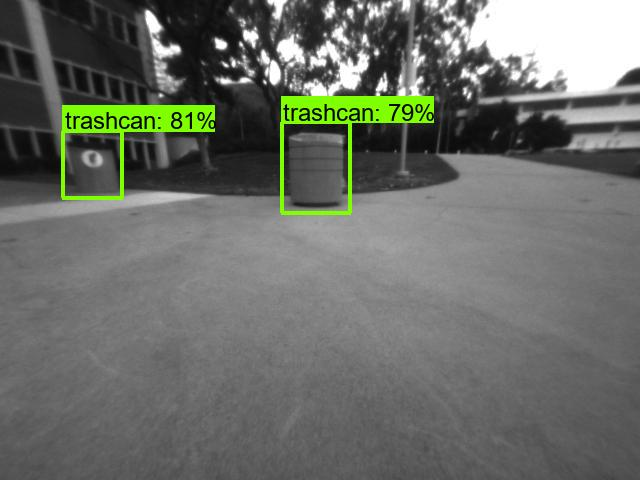trashcan: (287, 128, 350, 210), (63, 134, 130, 197)
